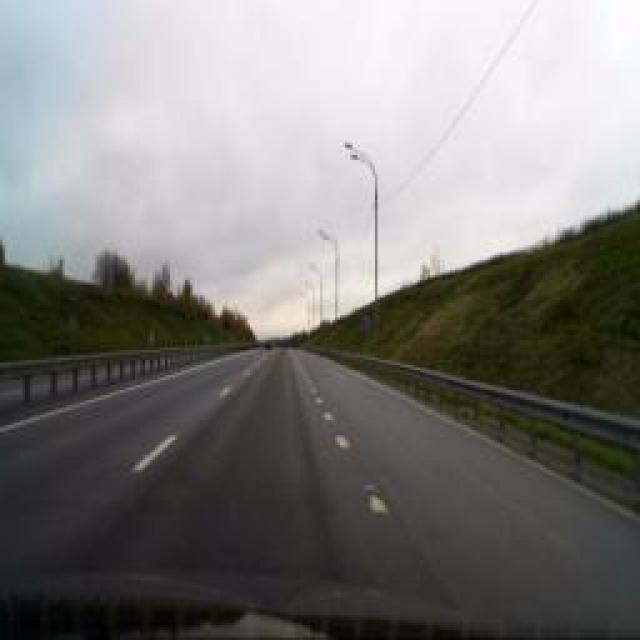sign: (362, 312, 370, 330)
